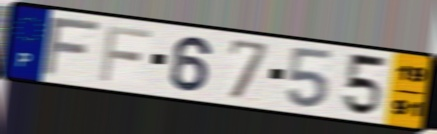5: (285, 45, 337, 111), (341, 50, 389, 119)
6: (168, 33, 214, 94)
7: (227, 37, 271, 103)
F: (39, 16, 105, 78), (97, 23, 154, 84)
